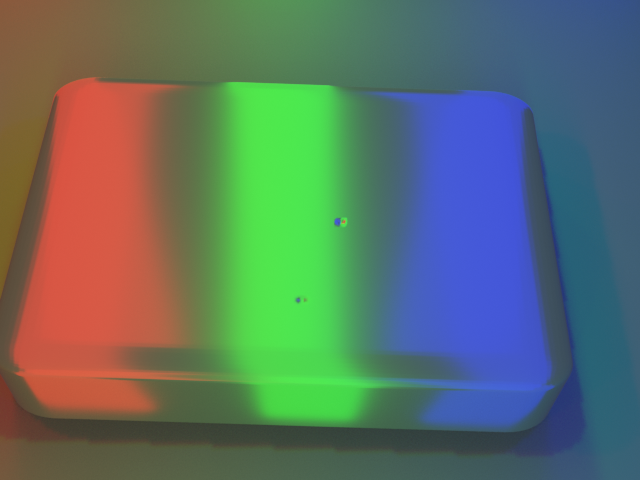dent: (282, 288, 320, 321), (323, 206, 357, 237)
